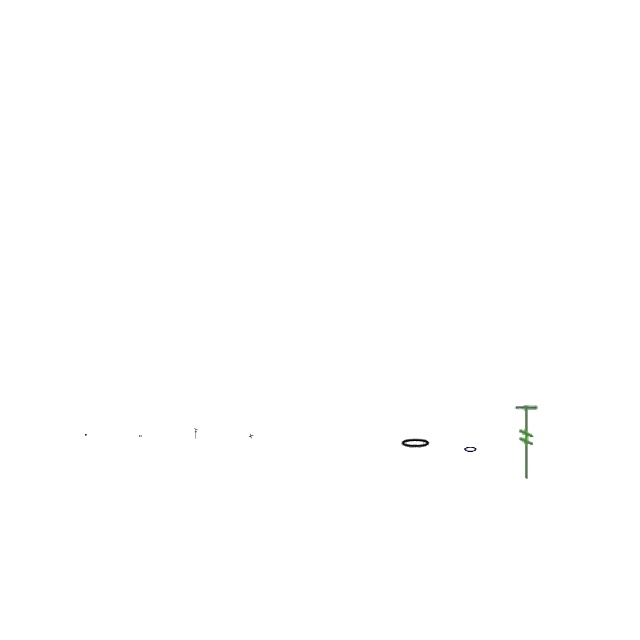chain: (400, 438, 432, 450), (464, 444, 478, 454), (85, 434, 87, 436), (140, 435, 142, 437)
double: (248, 433, 254, 439)
double treble: (194, 428, 198, 440)
fan: (513, 404, 539, 482)
